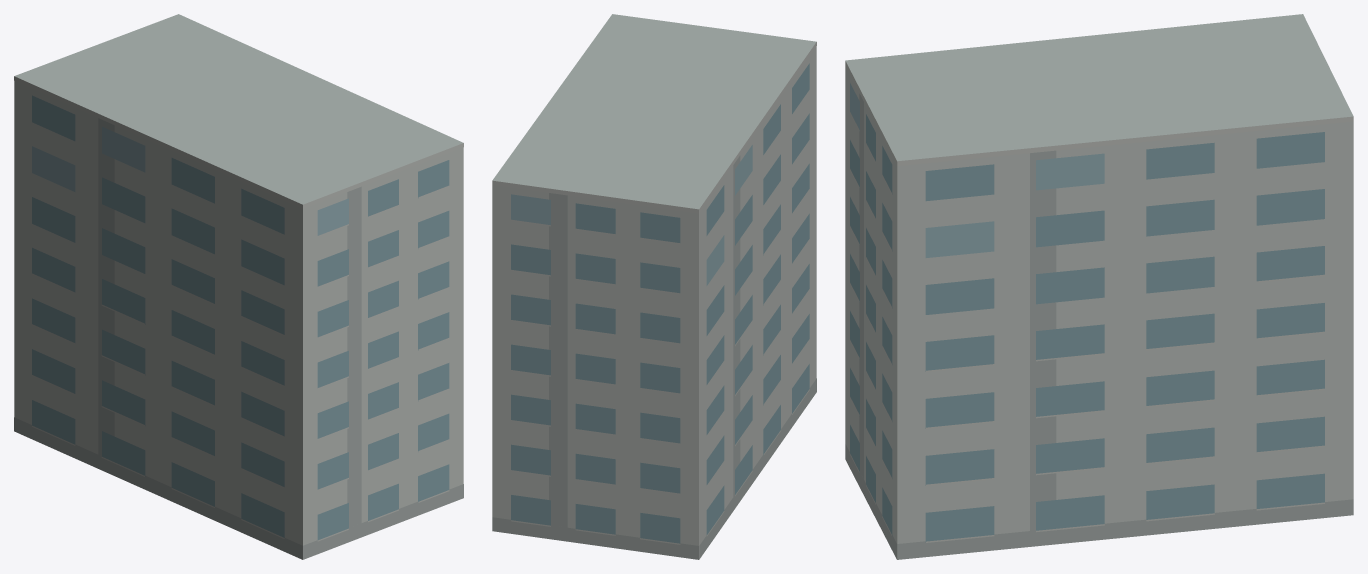
Rendered from survey-upis-32822672.glb.
3 views of the same model, side by side, from view 1: azimuth 30°, elevation 25°; view 2: azimuth 150°, elevation 25°; view 3: azimuth 270°, elevation 25° (orthographic). The views are drawn at different scales.
Parts seen in each view (by area): view 1: survey-upis-32822672.tmp; view 2: survey-upis-32822672.tmp; view 3: survey-upis-32822672.tmp.
Part boxes in pixels (box(x1,y1,x2,y2)): survey-upis-32822672.tmp: box(14, 14, 463, 559); survey-upis-32822672.tmp: box(492, 14, 816, 559); survey-upis-32822672.tmp: box(845, 14, 1353, 559).
Bounding box in the file's own units: 15.53 × 19.6 × 22.66.
